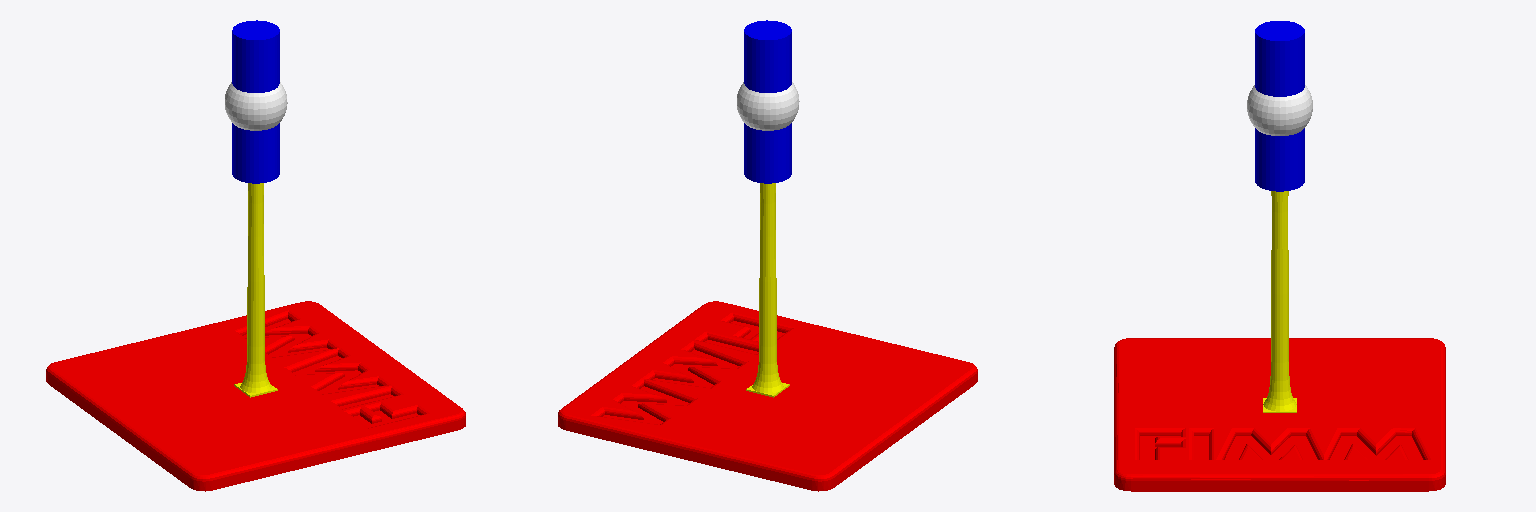
URDF robot description (pan_tilt):
<?xml version="1.0"?>
<robot name="pan_tilt">

	<!-- definire culori -->
	<material name="white">
		<color rgba="1 1 1 0.3"/>
	</material>

	<material name="blue">
		<color rgba="0 0 1 0.5"/>
	</material>

	<material name="yellow">
		<color rgba="1 1 0 1"/>
	</material>

	<material name="red">
		<color rgba="1 0 0 0.8"/>
	</material>


	<!-- baza robotului -->
	<link name="base_link">

		<!-- baza robotului VIZUAL-->
		<visual>

			<!-- baza robotului GEOMETRIE-->
			<geometry>
				<mesh filename="package://robotel/meshes/baza.STL"/>
				<!-- <box size="1 1 0.05"/> -->
			</geometry>
			<material name="red"/>
			<origin rpy="0 0 0" xyz="0 0 0.025"/>

		</visual>

	</link>


	<!-- element de tip pan -->
	<link name="pan_link">

		<!-- baza robotului VIZUAL-->
		<visual>

			<!-- baza robotului GEOMETRIE-->
			<geometry>
				<mesh filename="package://robotel/meshes/pan_stalp.STL"/>
				<!-- <box size="0.1 0.1 1"/> -->
			</geometry>
			<material name="yellow"/>
			<origin rpy="0 0 0" xyz="0 0 0.5"/>
		</visual>

	</link>

	<!-- element de tip sfera -->
	<link name="sphere_link">

		<!-- baza robotului VIZUAL-->
		<visual>

			<!-- baza robotului GEOMETRIE-->
			<geometry>
				<sphere radius="0.1"/>
			</geometry>
			<material name="white"/>
			<origin rpy="0 0 0" xyz="0 0 0"/>
		</visual>

	</link>

	<!-- element de tip tilt -->
	<link name="tilt_link">

		<!-- baza robotului VIZUAL-->
		<visual>

			<!-- baza robotului GEOMETRIE-->
			<geometry>
				<cylinder length="0.5" radius="0.075"/>
			</geometry>
			<material name="blue"/>
			<origin rpy="0 0 0" xyz="0 0 0"/>
		</visual>

	</link>


	<!--CUPLE: baza robotului & paralelipiped -->
	<joint name="pan_joint" type="revolute">
		<parent link="base_link"/>
		<child link="pan_link"/>

		<origin xyz="0 0 0.05"/>
		<axis xyz="0 0 1" />
		<limit effort="300" velocity="0.1" lower="-3.14" upper="3.14"/>
	</joint>

	<!--CUPLE: paralelipiped & sfera -->
	<joint name="sphere_joint" type="fixed">
		<parent link="pan_link"/>
		<child link="sphere_link"/>

		<origin xyz="0 0 1"/>
	</joint>

	<!--CUPLE: element pan & element tilt -->
	<joint name="tilt_joint" type="revolute">
		<parent link="pan_link"/>
		<child link="tilt_link"/>

		<origin xyz="0 0 1"/>
		<!-- e relativa distanta de la originea link1 la link2 -->
		<axis xyz="0 1 0" />
		<limit effort="300" velocity="0.1" lower="0" upper="3.14"/>
	</joint>

</robot>

--- Render facts (derived) ---
The picture shows the robot from 3 angles, left to right: view 1: azimuth 30°, elevation 25°; view 2: azimuth 150°, elevation 25°; view 3: azimuth 270°, elevation 25°; orthographic projection.
Model pan_tilt with 4 links and 3 joints (2 revolute, 1 fixed), rooted at base_link, posed every joint at zero.
Links seen in each view (by area): view 1: base_link, tilt_link, pan_link, sphere_link; view 2: base_link, tilt_link, pan_link, sphere_link; view 3: base_link, tilt_link, pan_link, sphere_link.
Link boxes in pixels (x1,y1,x2,y2): base_link: (46, 301, 465, 491); tilt_link: (232, 20, 279, 183); pan_link: (234, 183, 277, 397); sphere_link: (225, 82, 287, 130); base_link: (558, 301, 977, 491); tilt_link: (744, 20, 791, 183); pan_link: (746, 183, 789, 397); sphere_link: (737, 82, 799, 130); base_link: (1114, 338, 1445, 491); tilt_link: (1255, 21, 1304, 191); pan_link: (1263, 191, 1296, 412); sphere_link: (1247, 85, 1312, 135).
Size in the robot's own frame: 1 by 1 by 1.3 metres.
Meshes: 2 distinct files referenced, 2 mesh visuals loaded (2 binary STL).
